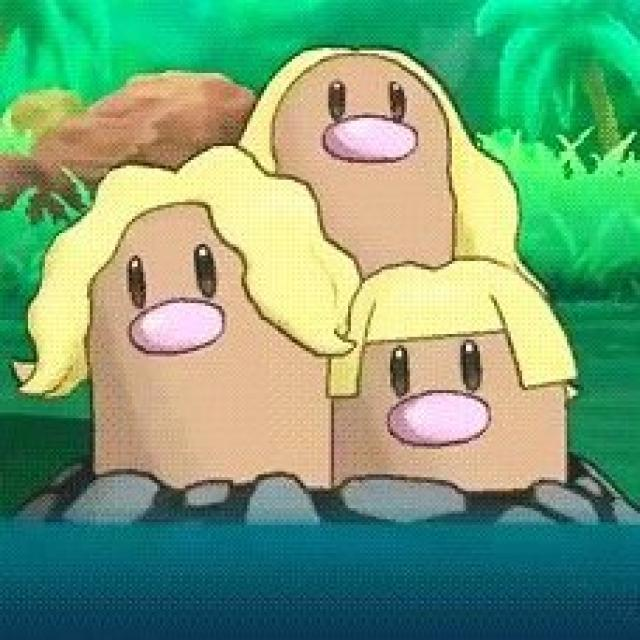Dugtrio: (57, 34, 577, 498)
